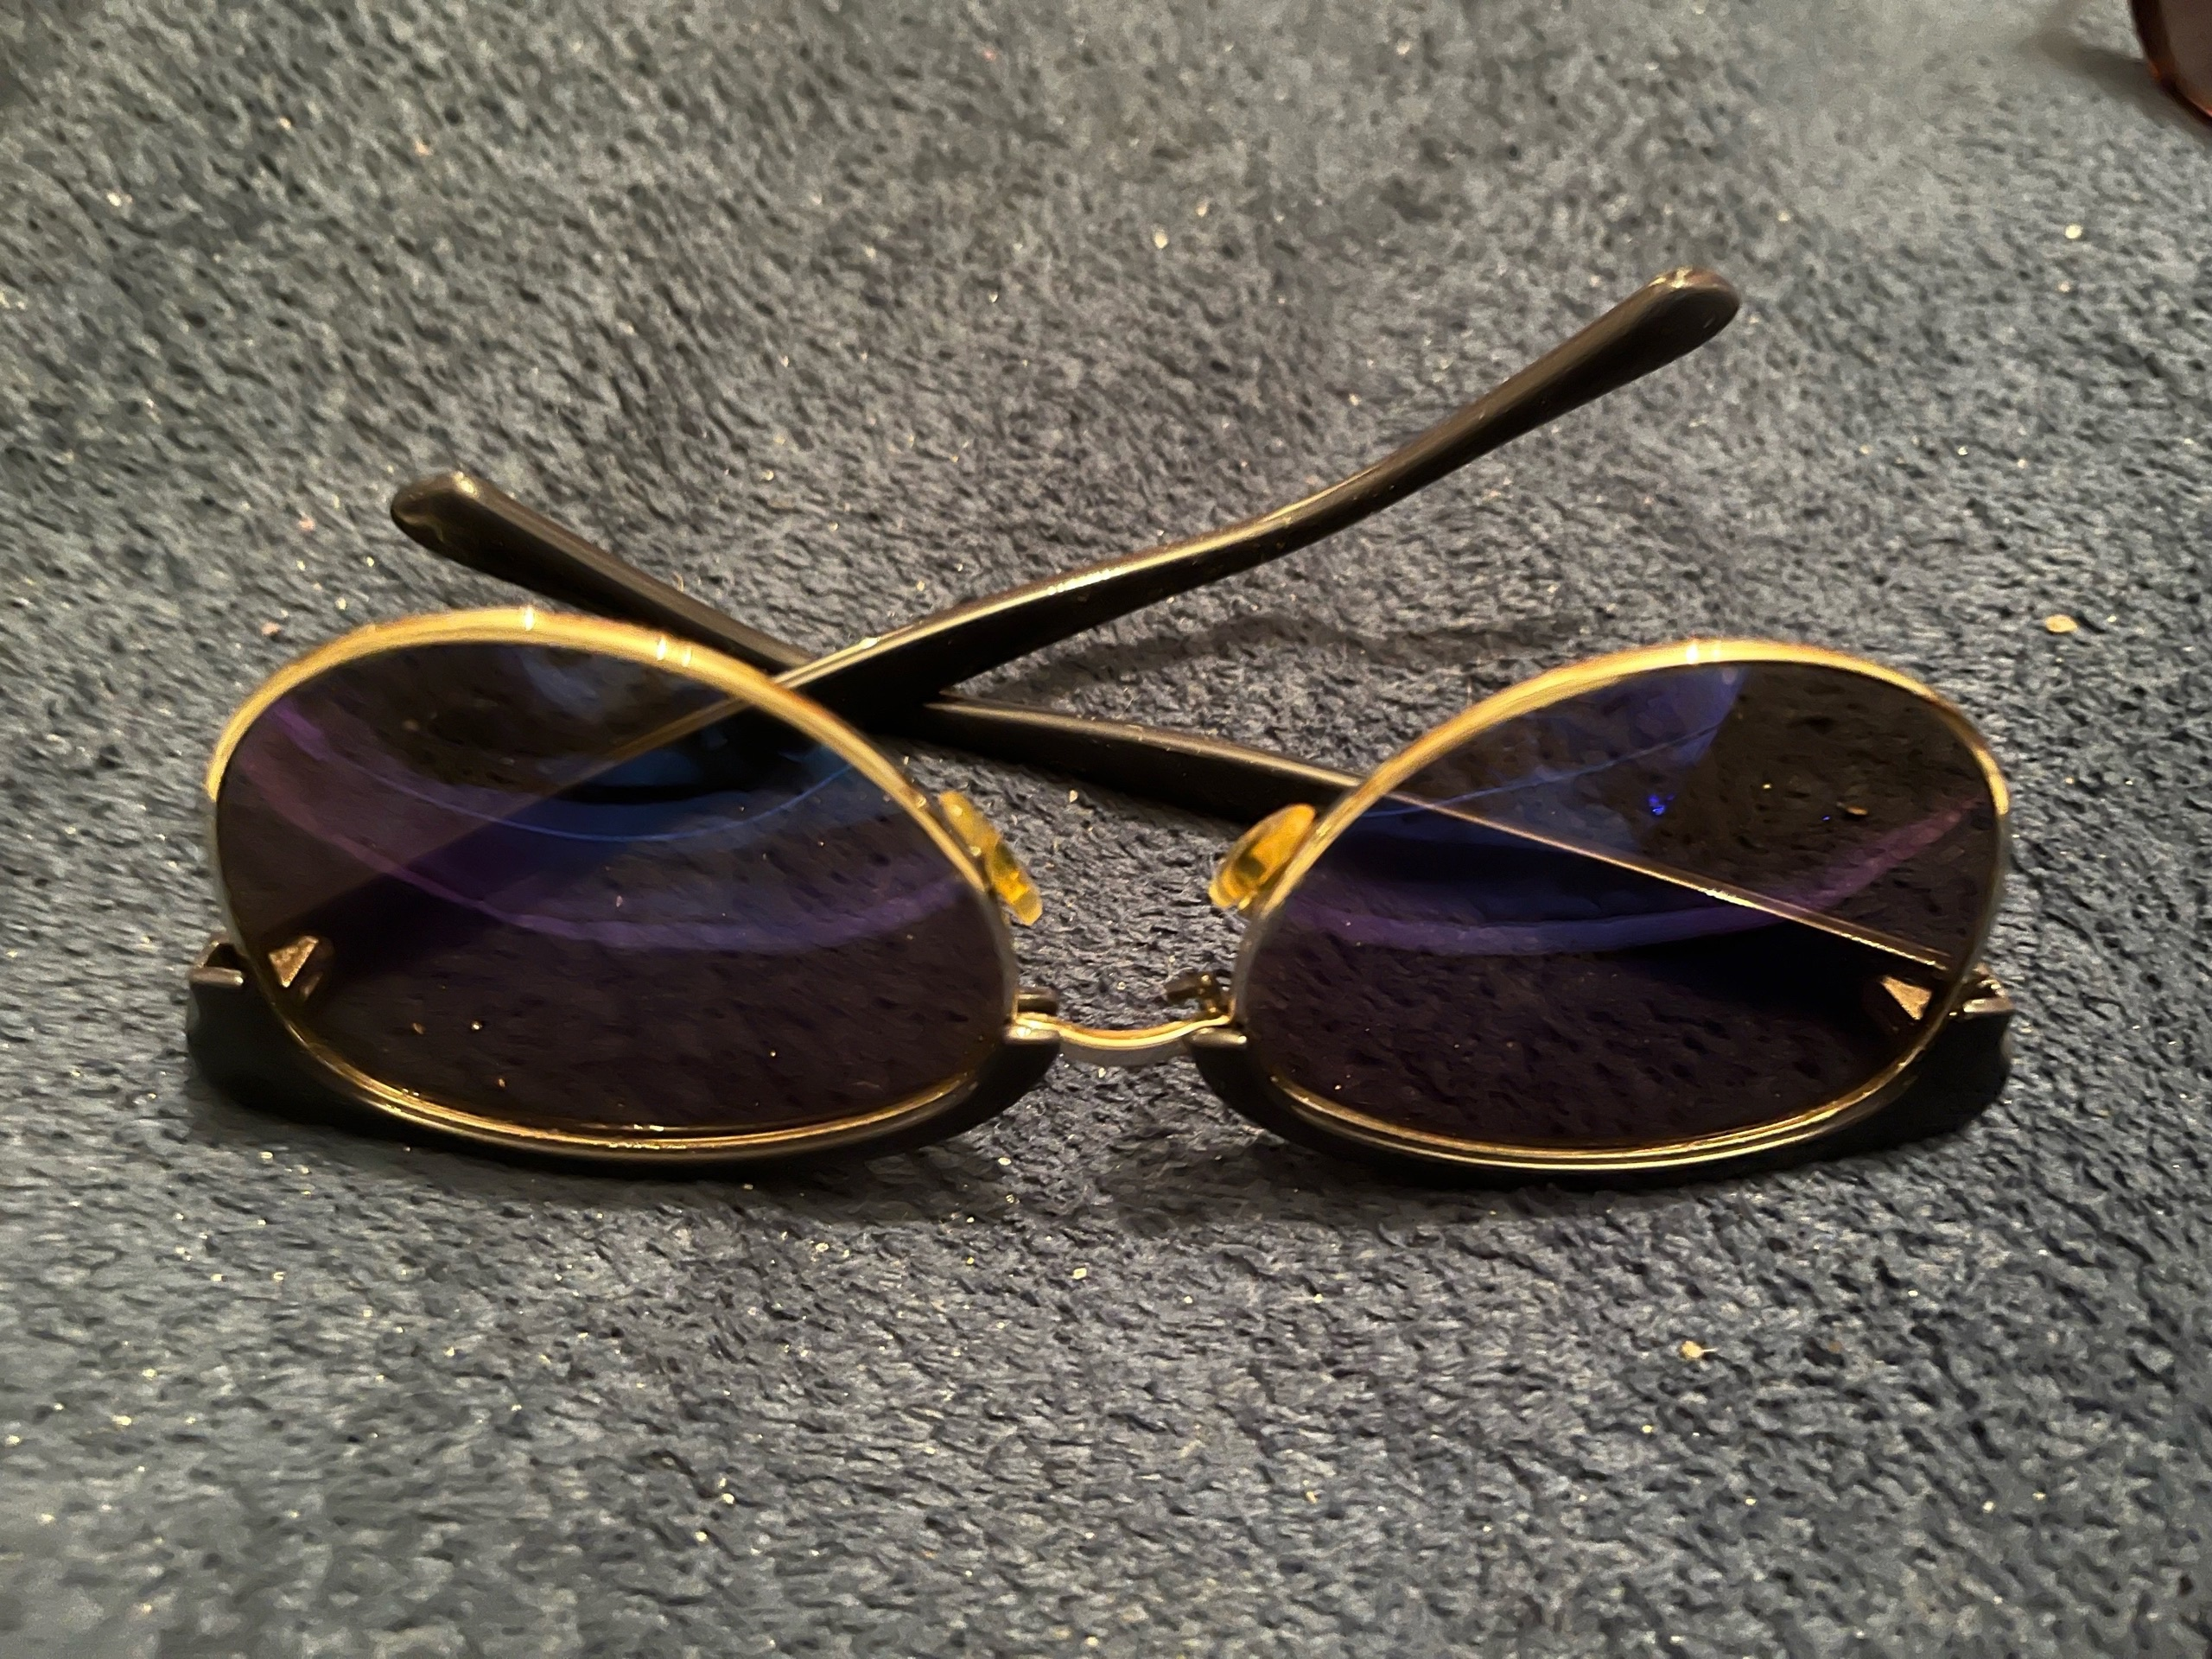glasses: (190, 272, 2008, 1176)
